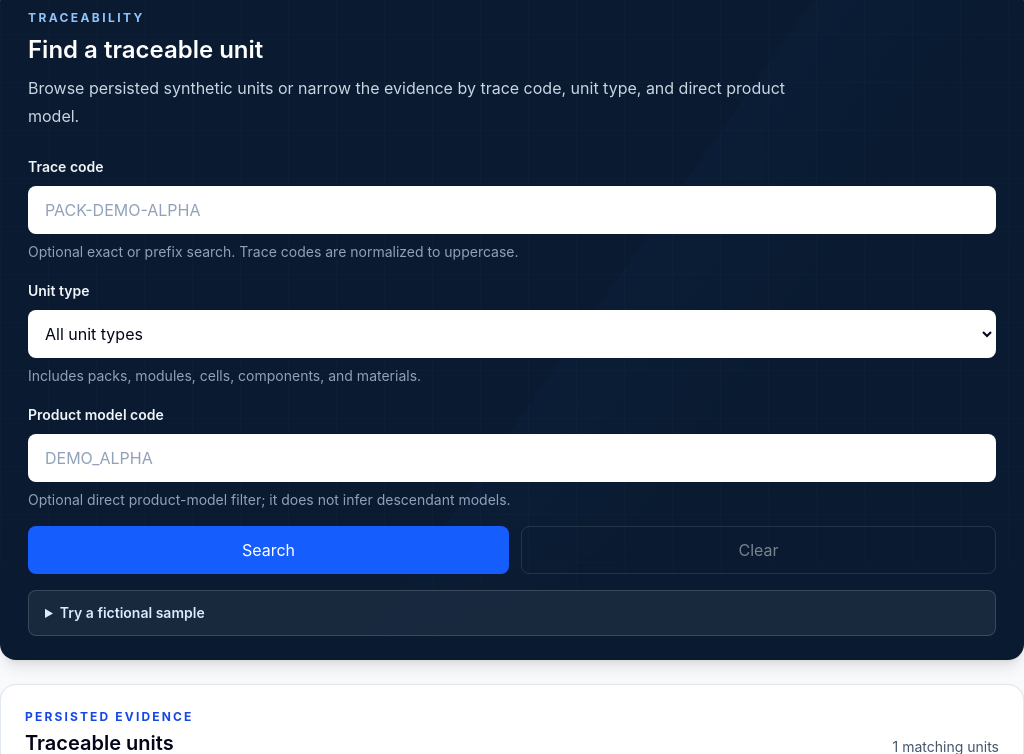
traceability search › shows three fictional reviewer samples in a compact responsive disclosure
The image size is (1024, 754).
What coordinates should you click on to do the following:
click the heading "Try a fictional sample"
I would click on:
 (132, 612)
Its box is [60,604,205,621].
(page scrolled)
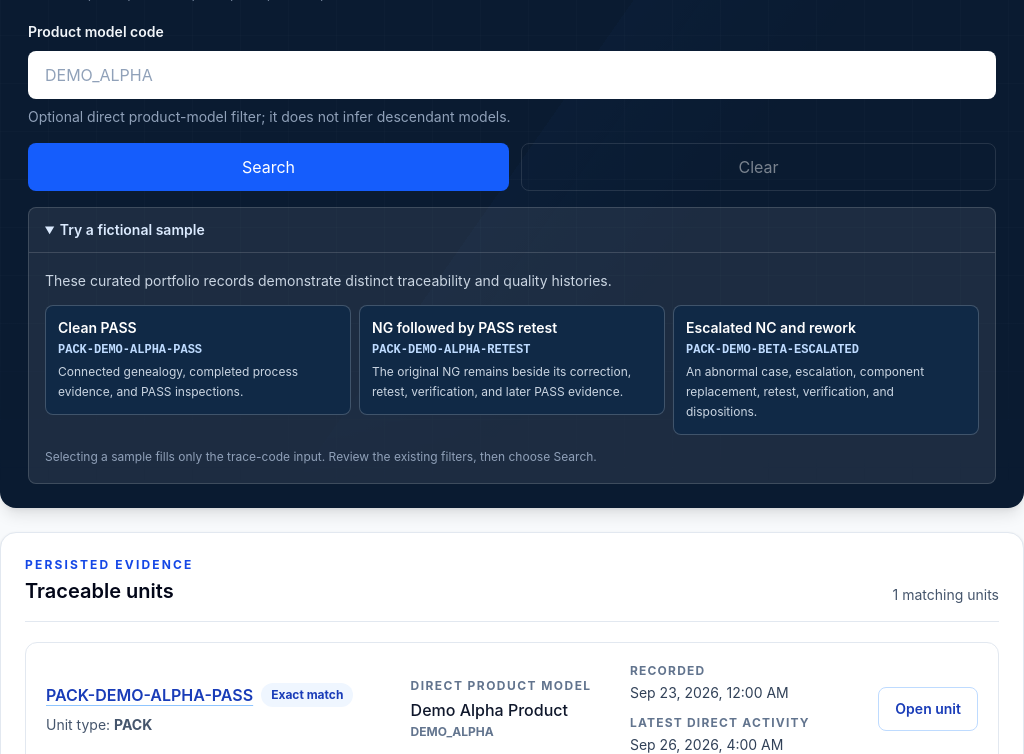
Expected: the text "These curated portfolio records demonstrate distinct traceability and quality histories." is shown, [45,272,612,289]
Expected: the number of buttons named "Use sample " is 3, [45,305,351,415]; [359,305,665,415]; [673,305,979,435]
Expected: the button with aria-label "PACK-DEMO-ALPHA-PASS: Clean PASS" is shown, [45,305,351,415]
